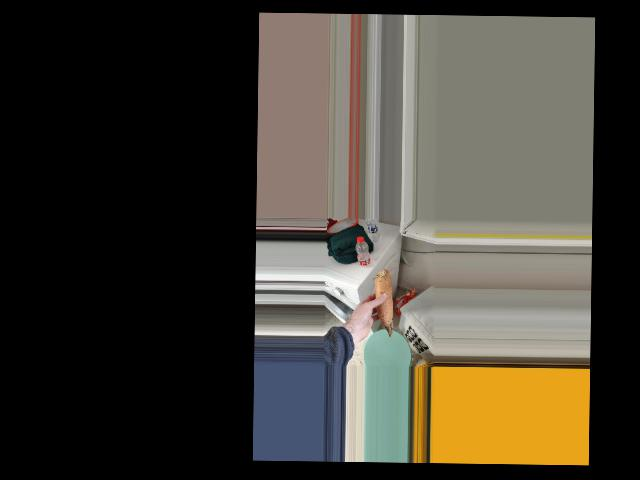sweet_potato: (373, 271, 399, 336)
